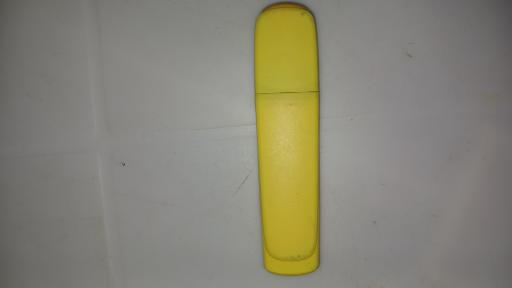Highlighter: (256, 4, 323, 276)
